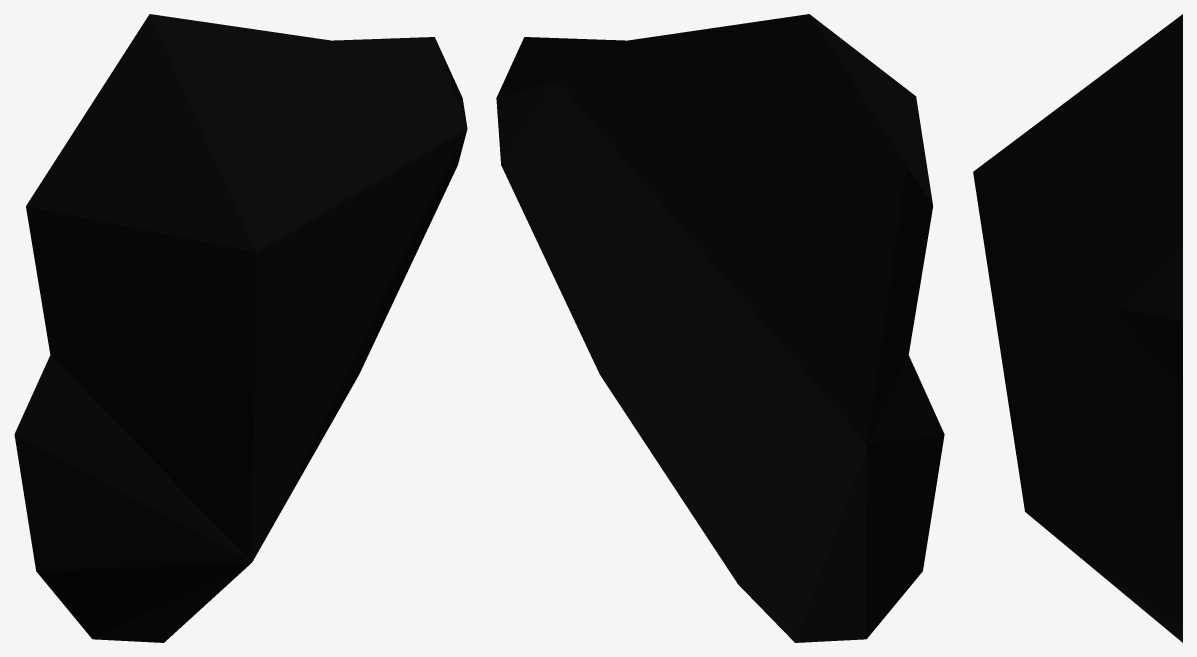
3 views of the same model, side by side, from view 1: azimuth 30°, elevation 25°; view 2: azimuth 150°, elevation 25°; view 3: azimuth 270°, elevation 25° (orthographic).
Size of the model in its own units: 0.4864 by 0.6559 by 0.2005.
1 material, 1 textured.
